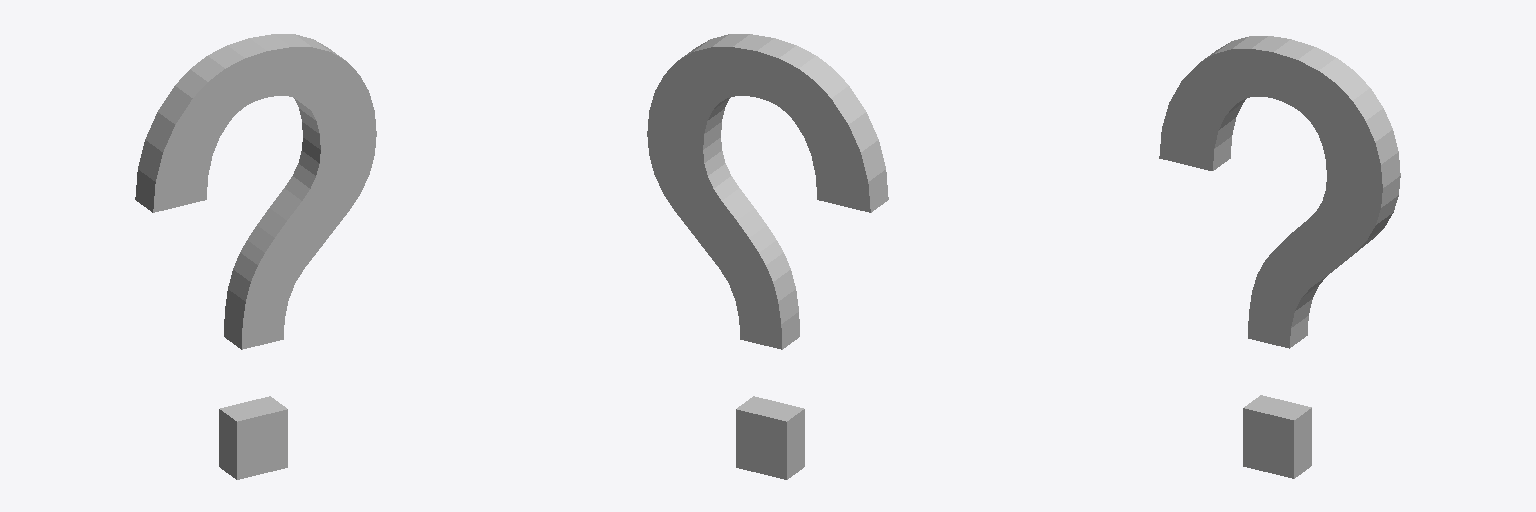
File: error.obj
3 renders of one model, left to right at view 1: azimuth 30°, elevation 25°; view 2: azimuth 150°, elevation 25°; view 3: azimuth 330°, elevation 25°, orthographic.
Visible parts, largest first — view 1: error; view 2: error; view 3: error.
Boxes of the visible parts, box(x1,y1,x2,y2) form: error: box(135, 34, 376, 479); error: box(647, 34, 888, 479); error: box(1159, 36, 1400, 478).
Bounding box in the file's own units: 7.5 × 13.52 × 1.04.